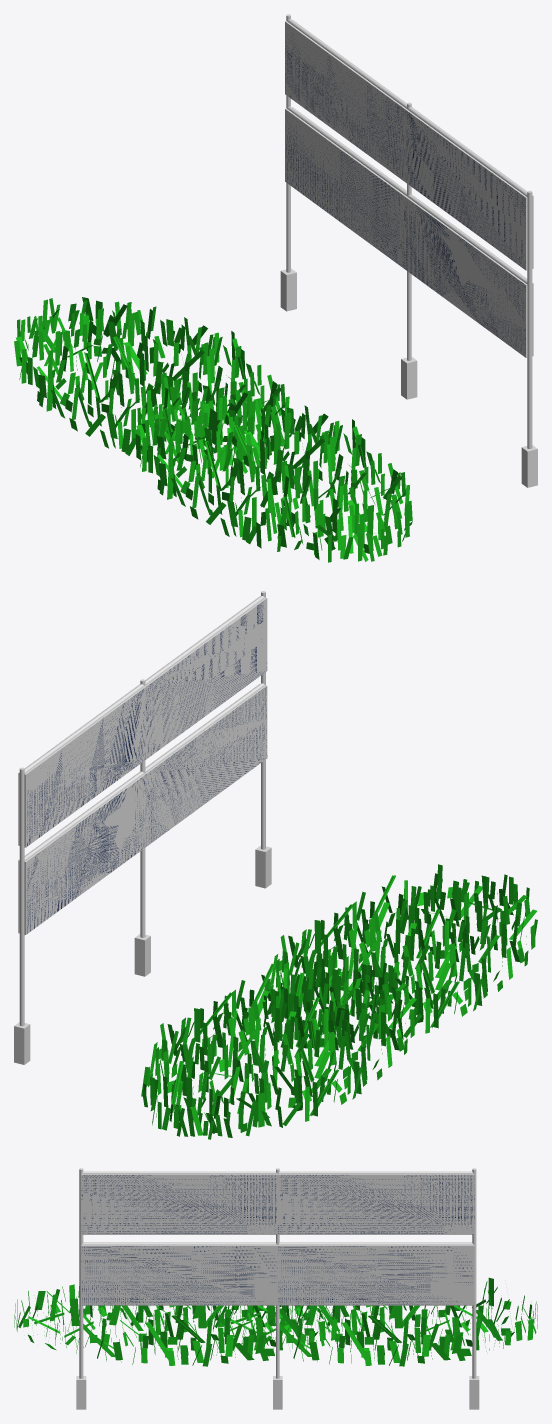
Rendered from verticalSolarGrass1.glb.
The picture shows the model from 3 angles, top to bottom: view 1: azimuth 30°, elevation 25°; view 2: azimuth 150°, elevation 25°; view 3: azimuth 270°, elevation 25°; orthographic projection. The views are drawn at different scales.
Visible parts, largest first — view 1: Trava Kolosok.004, Trava Kolosok.001, Panel.004, Panel.003, Panel.002, Panel.005, Cylinder.001, Cylinder.003, Cylinder.012, Cube.002, Cylinder.010, Cube.001 (+2 smaller); view 2: Trava Kolosok.004, Trava Kolosok.001, Panel.002, Panel.005, Panel.004, Panel.003, Cylinder.005, Cylinder.008, Cylinder.010, Cylinder.003, Cube.010, Cube.001 (+2 smaller); view 3: Panel.006, Panel.009, Panel.007, Panel.008, Trava Kolosok.001, Trava Kolosok.004, Cylinder.005, Cylinder.001, Cylinder.008, Cylinder.003, Cylinder.012, Cylinder.010 (+4 smaller).
Part boxes in pixels (x1,y1,x2,y2): Trava Kolosok.004: (14, 297, 291, 474); Trava Kolosok.001: (134, 385, 412, 562); Panel.004: (405, 109, 527, 270); Panel.003: (405, 196, 527, 357); Panel.002: (285, 21, 406, 181); Panel.005: (285, 108, 406, 269); Cylinder.001: (527, 190, 532, 448); Cylinder.003: (407, 194, 527, 284); Cylinder.012: (407, 107, 527, 196); Cube.002: (280, 268, 296, 311); Cylinder.010: (287, 19, 406, 108); Cube.001: (521, 445, 537, 487); Trava Kolosok.004: (141, 952, 417, 1139); Trava Kolosok.001: (262, 864, 537, 1050); Panel.002: (24, 686, 146, 847); Panel.005: (24, 773, 146, 934); Panel.004: (145, 597, 267, 758); Panel.003: (145, 685, 267, 846); Cylinder.005: (19, 767, 24, 1026); Cylinder.008: (24, 771, 144, 861); Cylinder.010: (24, 684, 144, 773); Cylinder.003: (145, 683, 265, 772); Cube.010: (134, 934, 150, 976); Cube.001: (255, 845, 271, 888); Panel.006: (277, 1245, 474, 1305); Panel.009: (81, 1245, 277, 1305); Panel.007: (277, 1174, 474, 1233); Panel.008: (81, 1174, 277, 1233); Trava Kolosok.001: (14, 1284, 341, 1366); Trava Kolosok.004: (211, 1277, 537, 1366); Cylinder.005: (472, 1168, 476, 1378); Cylinder.001: (79, 1168, 83, 1378); Cylinder.008: (278, 1242, 473, 1245); Cylinder.003: (81, 1242, 277, 1245); Cylinder.012: (82, 1171, 277, 1173); Cylinder.010: (278, 1171, 473, 1173).
Bounding box in the file's own units: 4.27 × 4.04 × 8.
18 materials, 8 textured.
